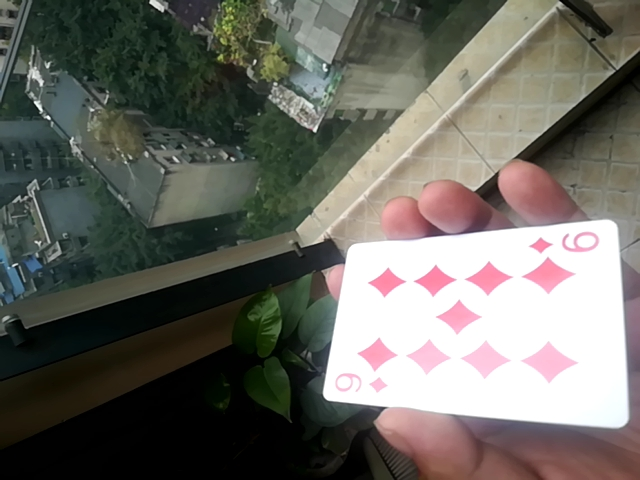fk 9: (319, 216, 632, 430)
